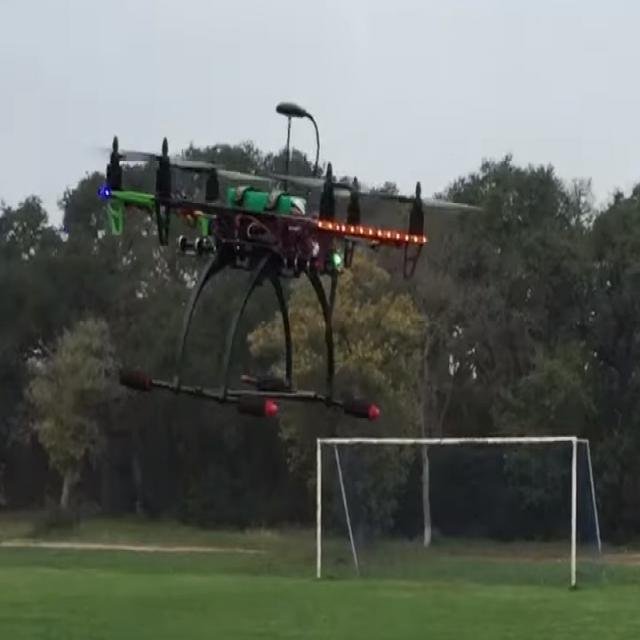drone: (82, 82, 490, 456)
